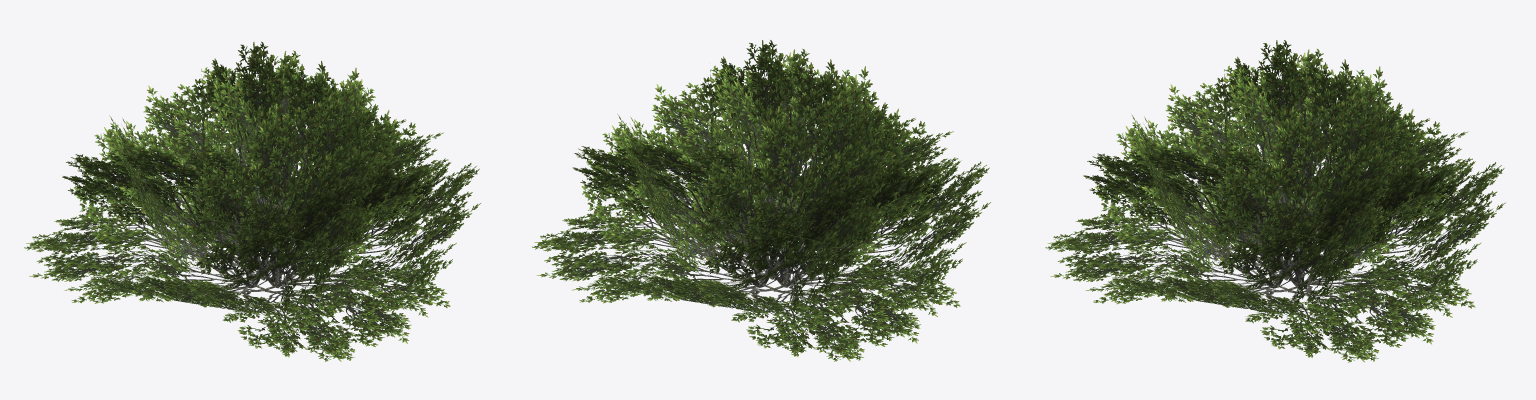
Rendered from bush3.FBX.
The picture shows the model from 3 angles, left to right: view 1: azimuth 30°, elevation 25°; view 2: azimuth 150°, elevation 25°; view 3: azimuth 270°, elevation 25°; orthographic projection.
Parts seen in each view (by area): view 1: bush3; view 2: bush3; view 3: bush3.
Part boxes in pixels (left/top/right/bottom): bush3: left=24, top=41, right=480, bottom=361; bush3: left=532, top=40, right=990, bottom=361; bush3: left=1045, top=40, right=1505, bottom=362.
Bounding box in the file's own units: 130 × 70.59 × 114.
